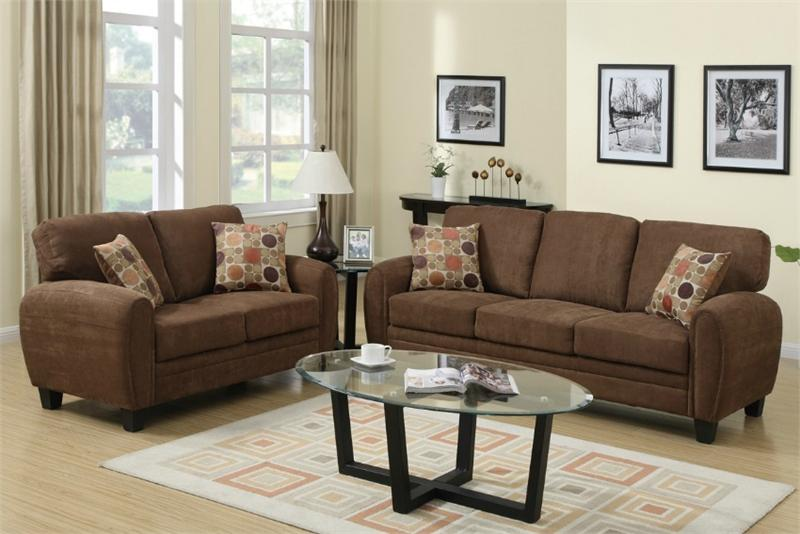chairs: (366, 194, 785, 445), (20, 202, 343, 434)
